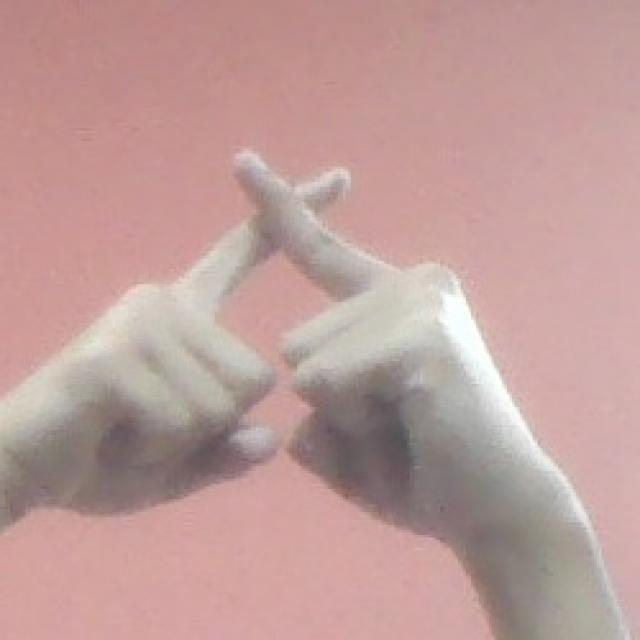Alphabet-X: (48, 137, 554, 578)
